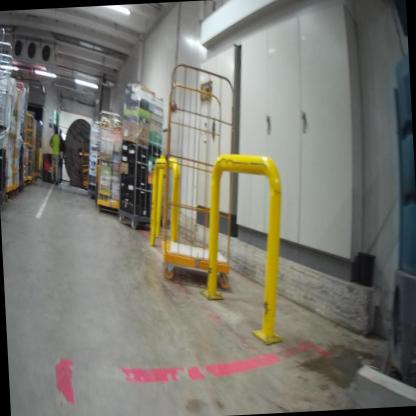pallet_truck: (34, 149, 60, 184)
